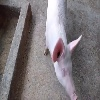heo: (43, 21, 82, 99)
